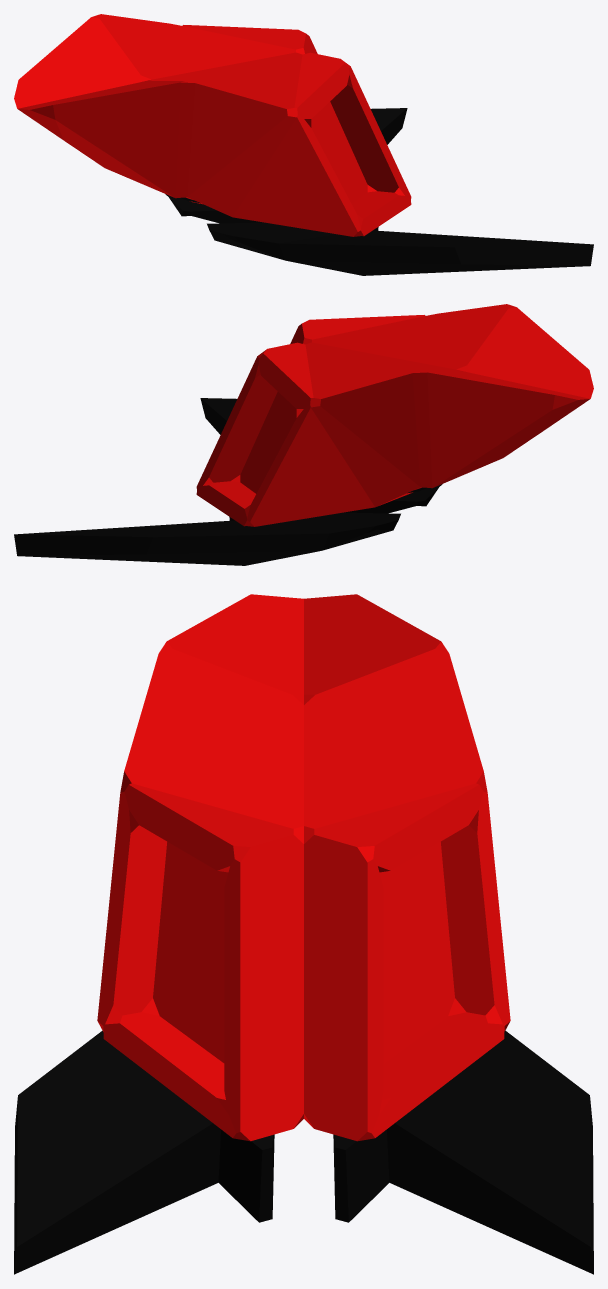
File: Gallant2.fbx
3 views of the same model, one above another, from view 1: azimuth 30°, elevation 25°; view 2: azimuth 150°, elevation 25°; view 3: azimuth 270°, elevation 25° (orthographic). The views are drawn at different scales.
Visible parts, largest first — view 1: Gallant2; view 2: Gallant2; view 3: Gallant2.
Part boxes in pixels (bbox=[...]): Gallant2: bbox=[14, 14, 593, 275]; Gallant2: bbox=[14, 304, 593, 565]; Gallant2: bbox=[14, 594, 593, 1274].
Size of the model in its own units: 171 by 90.62 by 115.
